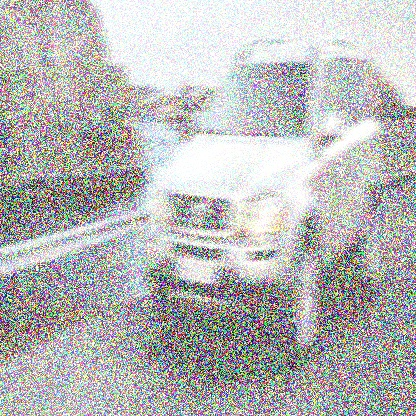Vehicle: (146, 41, 380, 355)
